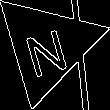N_N: (21, 16, 73, 76)
